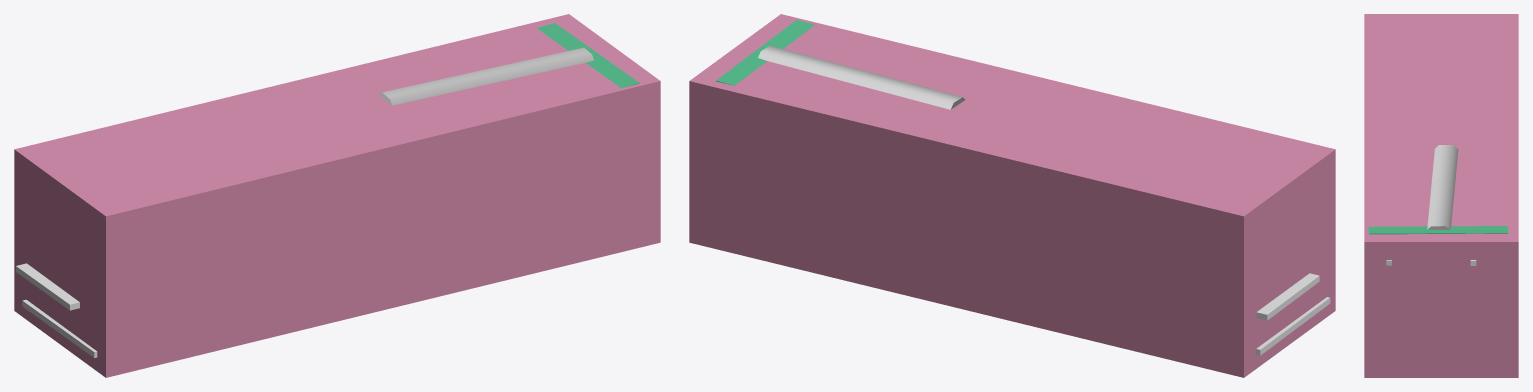
File: ind_rubbish_01_c.dae
The picture shows the model from 3 angles, left to right: view 1: azimuth 30°, elevation 25°; view 2: azimuth 150°, elevation 25°; view 3: azimuth 270°, elevation 25°; orthographic projection. The views are drawn at different scales.
Visible parts, largest first — view 1: Untitled, tree_oak_bush_a400, Colmesh-1; view 2: Untitled, tree_oak_bush_a400, Colmesh-1; view 3: Untitled, tree_oak_bush_a400, Colmesh-1.
Boxes of the visible parts, box(x1,y1,x2,y2) form: Untitled: box(14, 14, 660, 377); tree_oak_bush_a400: box(16, 47, 593, 357); Colmesh-1: box(537, 23, 639, 87); Untitled: box(689, 14, 1335, 377); tree_oak_bush_a400: box(758, 45, 1330, 355); Colmesh-1: box(716, 20, 814, 85); Untitled: box(1364, 14, 1518, 377); tree_oak_bush_a400: box(1386, 145, 1476, 265); Colmesh-1: box(1368, 226, 1507, 234).
Size of the model in its own units: 2.87 by 0.8034 by 0.8055.
